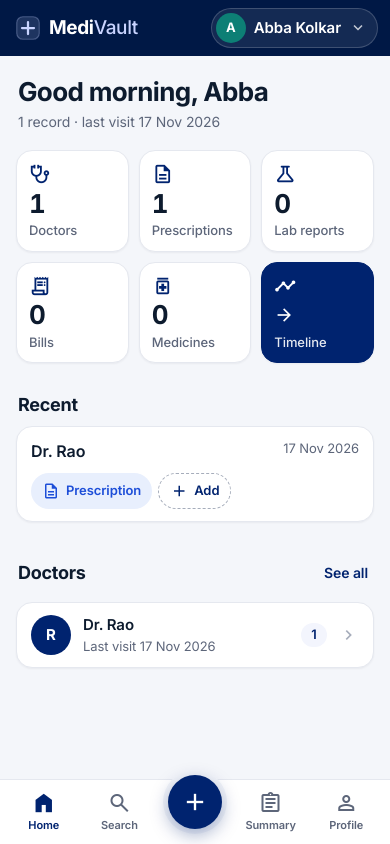
Test case: the summary shows allergies first, conditions, and daily medicines under Taking now
What coordinates should you click on to do the following:
click the button "Summary"
I would click on:
 (271, 812)
Its box is [233,786,308,838].
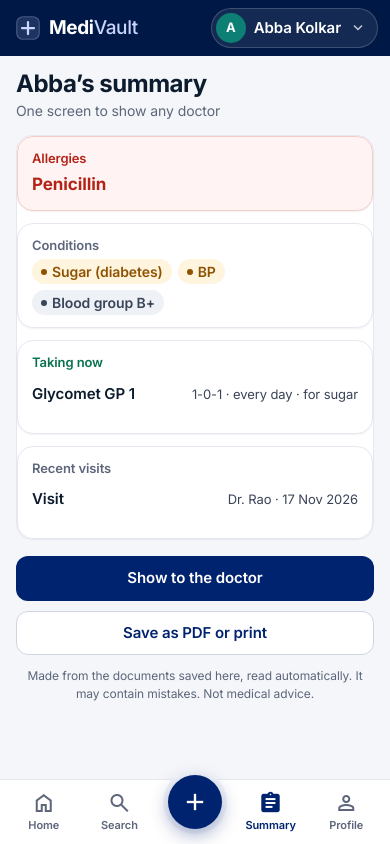
expect the text "Penicillin" is shown: met, box [32,174,106,194]
expect the text "Sugar (diabetes)" is shown: met, box [32,259,172,284]
expect the text "Blood group B+" is shown: met, box [32,290,164,315]
